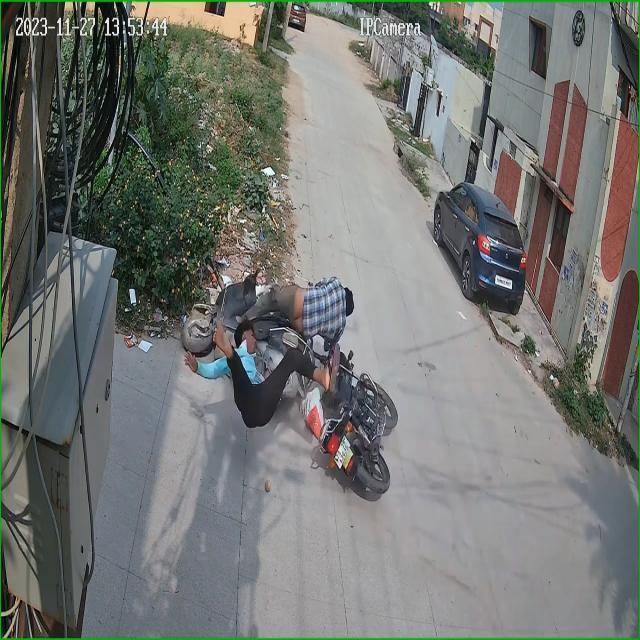accident: (194, 270, 391, 500)
